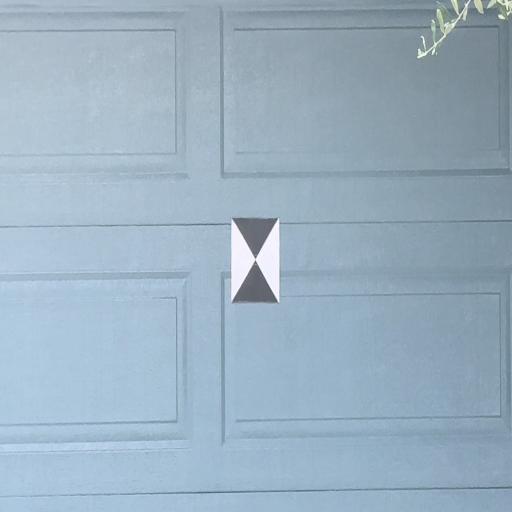target: (232, 218, 278, 303)
